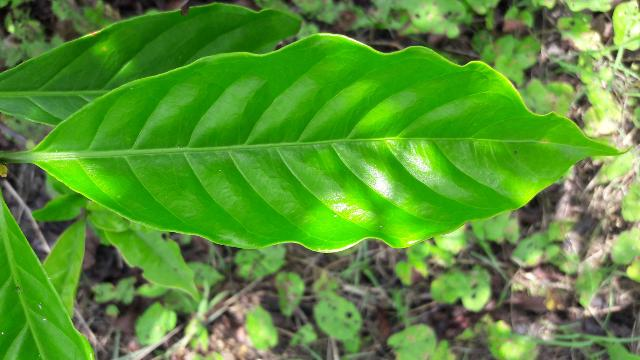healthy: (29, 32, 624, 252)
